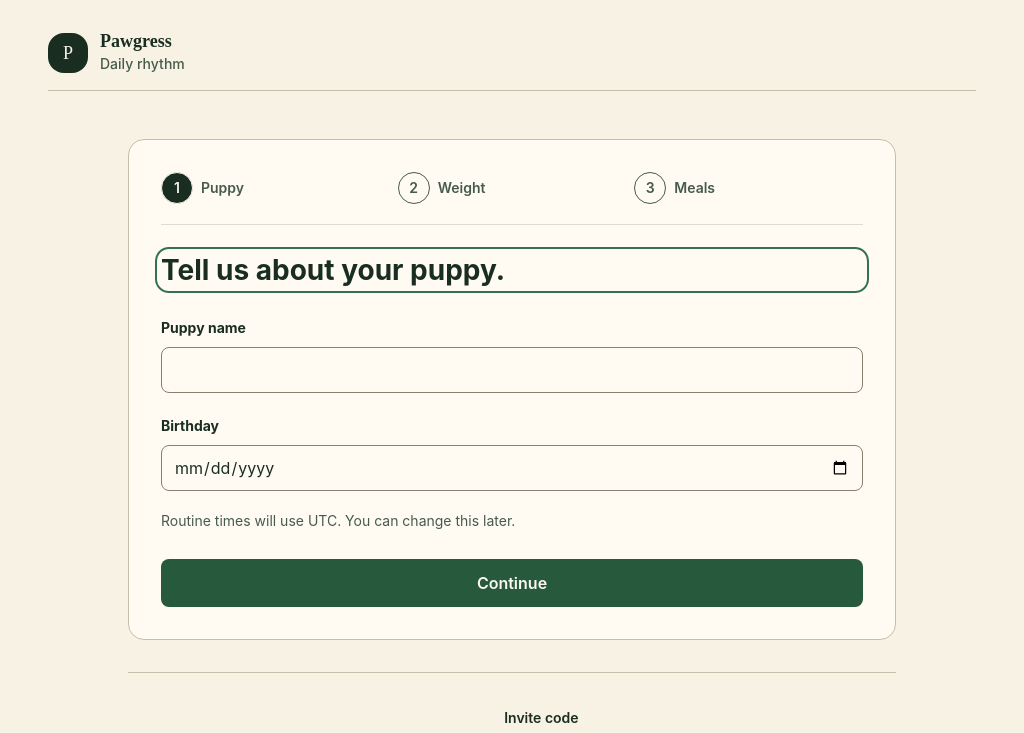
Test case: OnboardingPage › rejects a future birthday
The width and height of the screenshot is (1024, 733).
In the field labelled "Puppy name": {"x": 512, "y": 370} [161,347,863,393], type "Zoe"
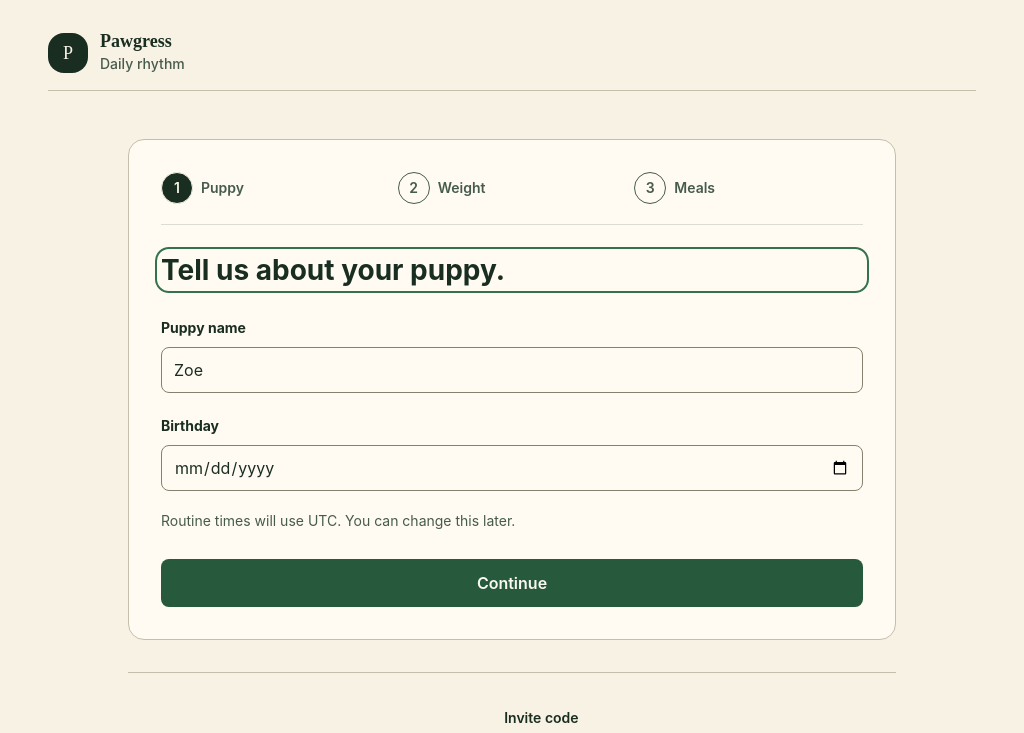
In the date field labelled "Birthday": {"x": 512, "y": 468} [161,445,863,491], type "2999-01-01"
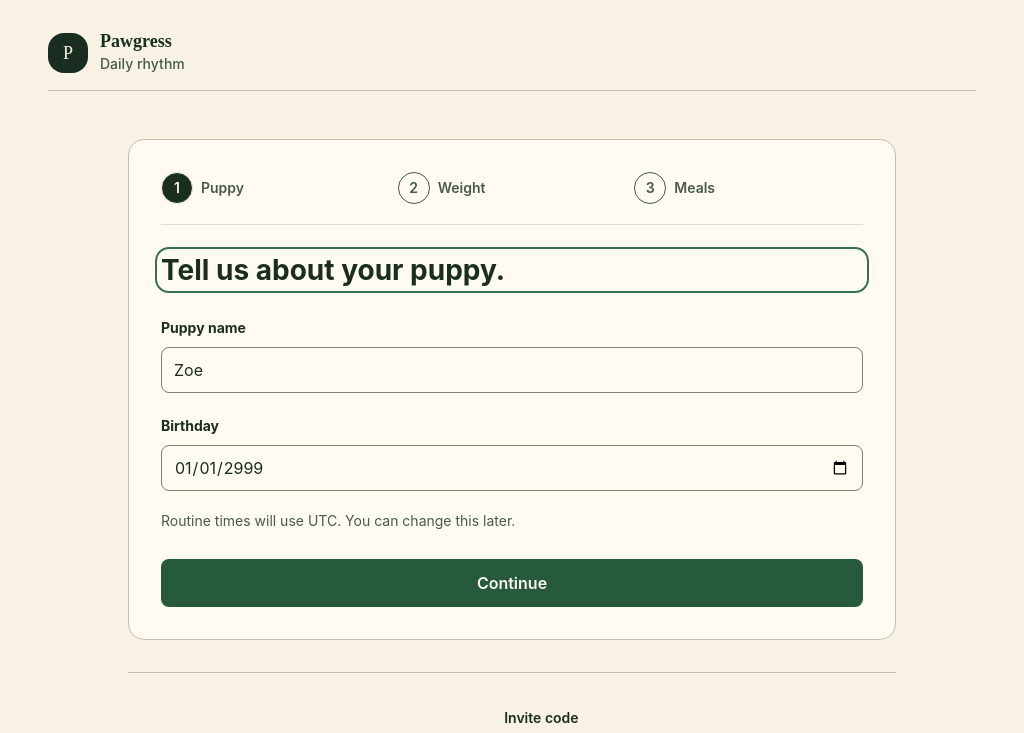
Click the button "Continue": {"x": 512, "y": 583} [161,559,863,607]
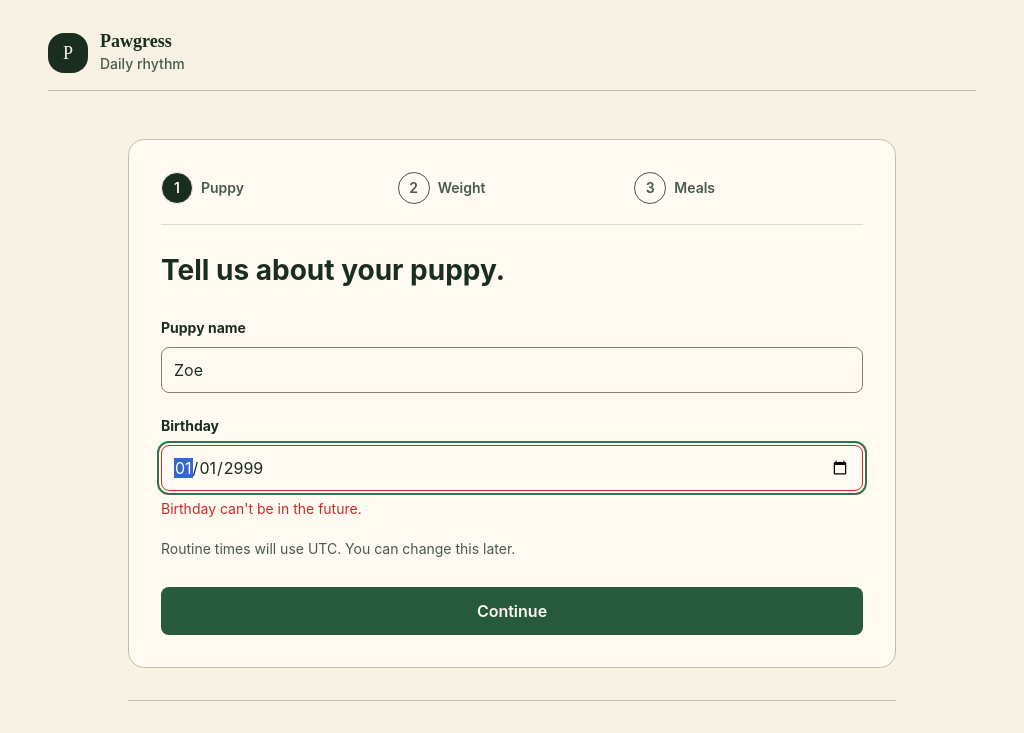
Expected: the text "Birthday can't be in the future." is shown, [161,500,362,517]
